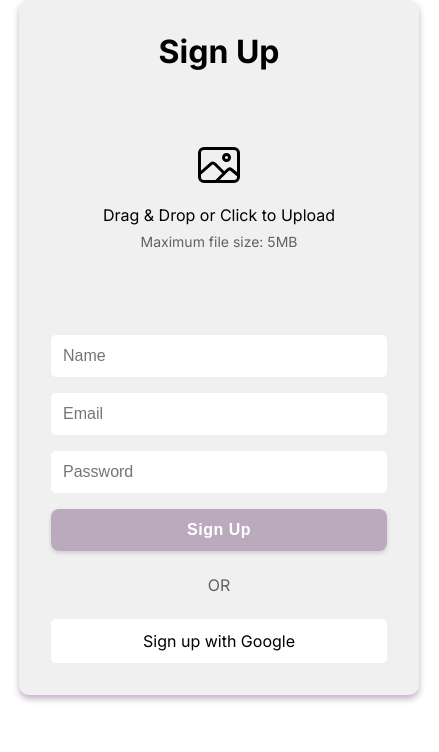
Test case: SignupPage › handles signup error
This screenshot has width=439, height=752.
Type "Test User" into the field with placeholder "Name" at (219, 356), box x1=51 y1=335 x2=387 y2=377
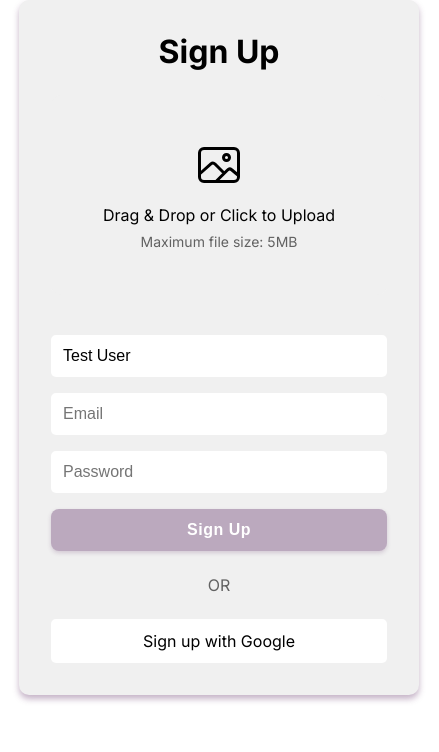
Type "test@example.com" into the field with placeholder "Email" at (219, 414), box x1=51 y1=393 x2=387 y2=435
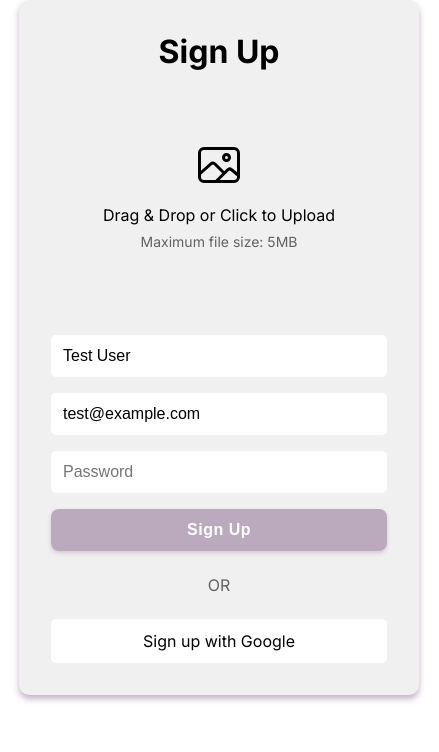
Type "password123" into the password field with placeholder "Password" at (219, 472), box x1=51 y1=451 x2=387 y2=493
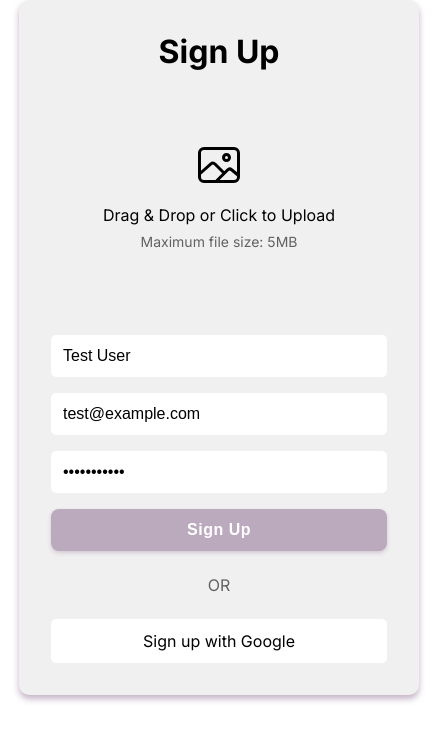
Click the button "Sign Up" at (219, 530), box x1=51 y1=509 x2=387 y2=551
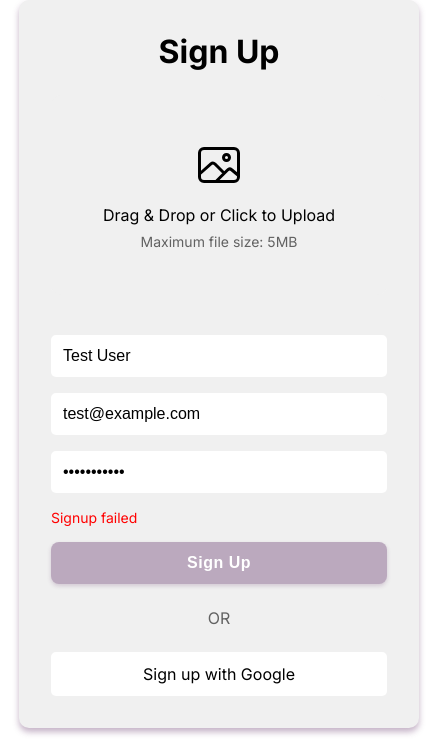
Expected: the text "Signup failed" is shown, x1=51 y1=509 x2=137 y2=526
